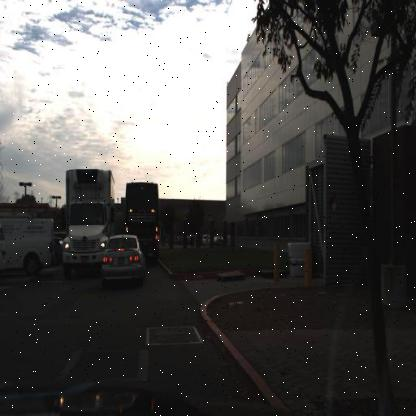car: (0, 214, 55, 278), (100, 232, 142, 281)
truck: (61, 165, 110, 280), (124, 178, 158, 254)
